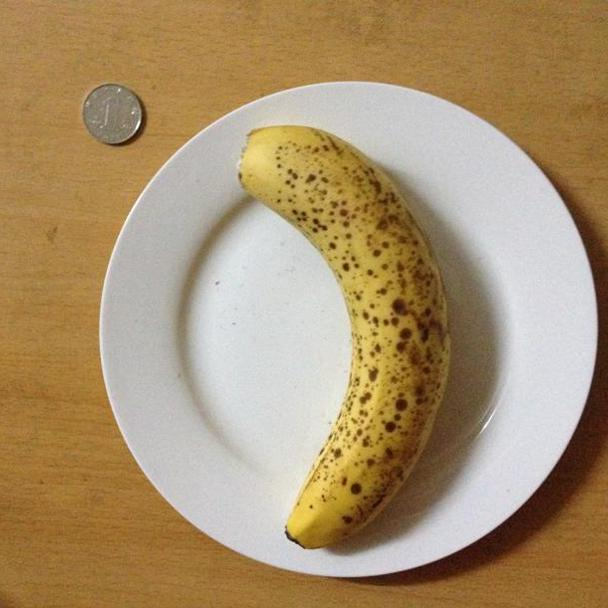banana: (230, 121, 465, 556)
